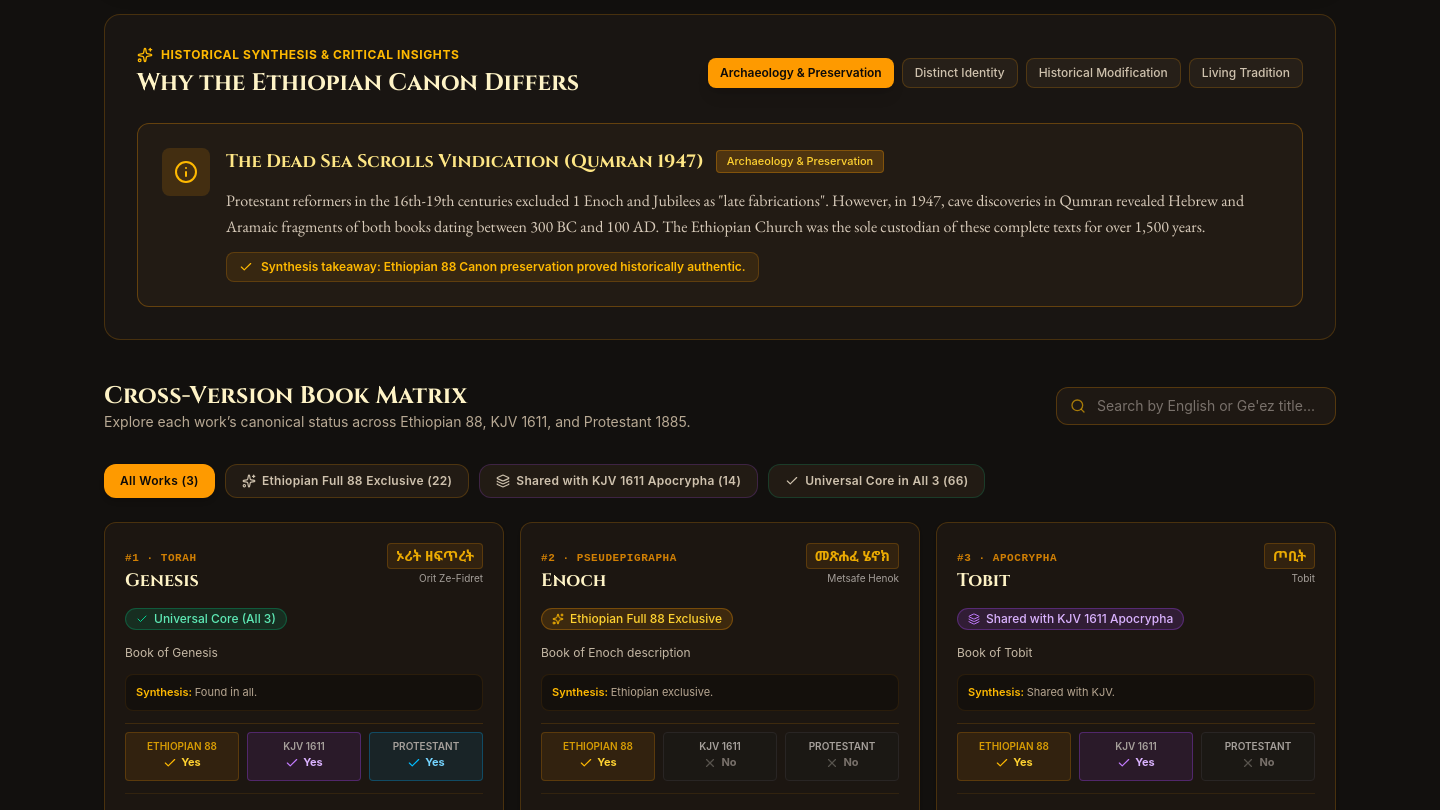
Test: CanonDashboard Component › filters books by search term
(page scrolled)
Type "enoch" into the field with placeholder "Search by English or Ge'ez title..." at [1196, 406], box left=1056, top=387, right=1336, bottom=425
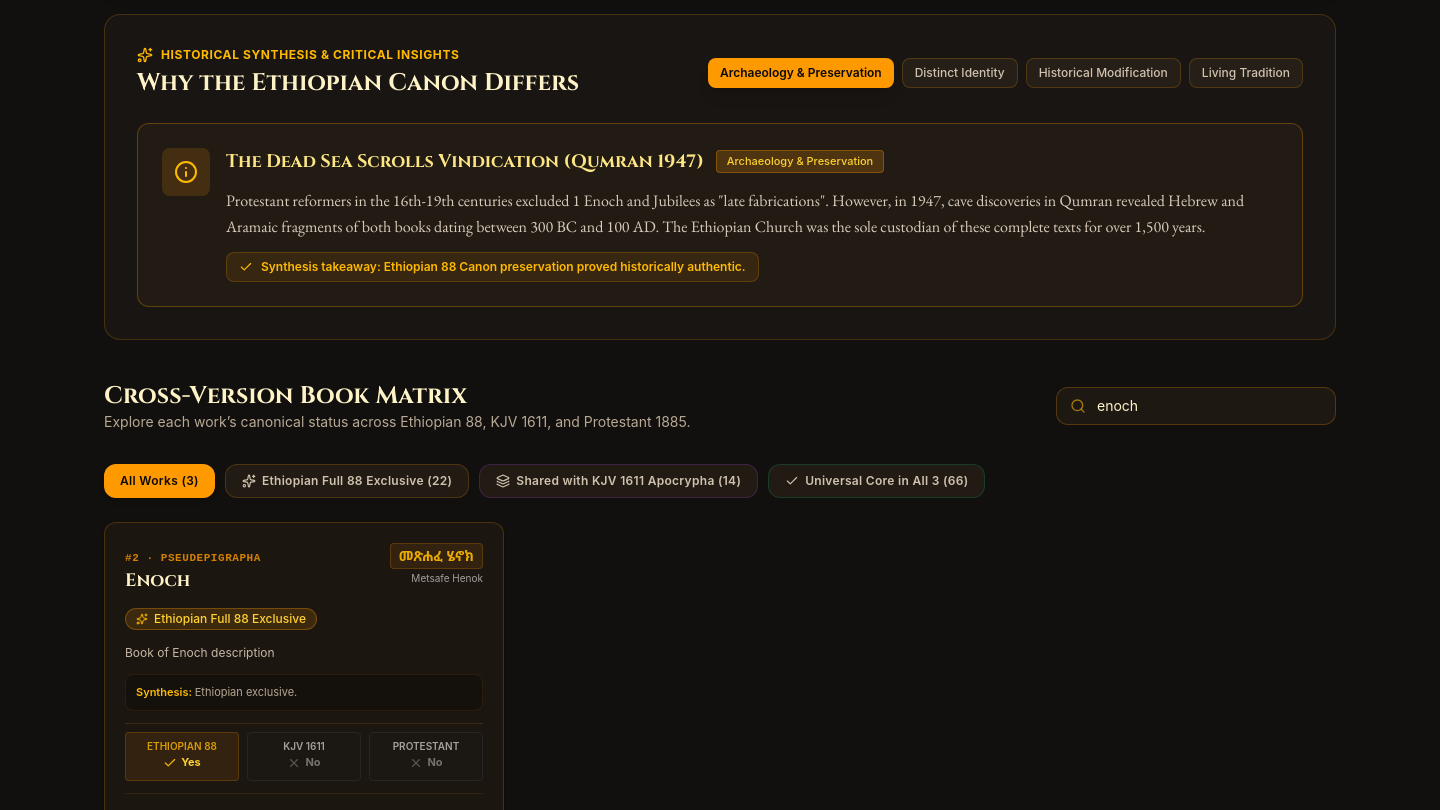
Expected: the heading "Enoch" is shown, left=125, top=568, right=190, bottom=593
Now the heading "Genesis" is gone
Note: Search by Ge'ez Title
Replace the text in the field with placeholder "Search by English or Ge'ez title..." with "ኦሪት ዘፍጥረት" at [1196, 406], box left=1056, top=387, right=1336, bottom=425
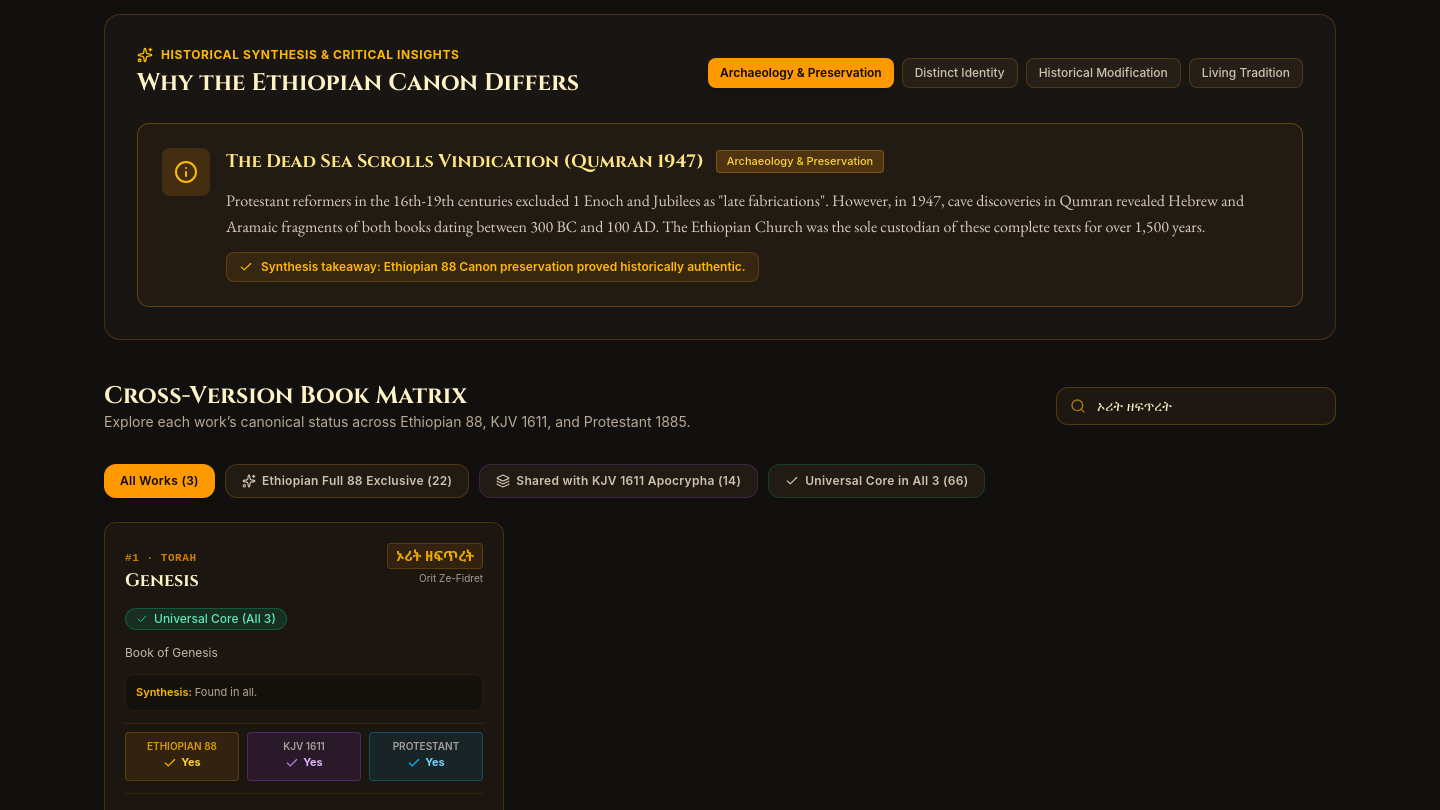
Now the heading "Genesis" is shown, box left=125, top=567, right=199, bottom=595
